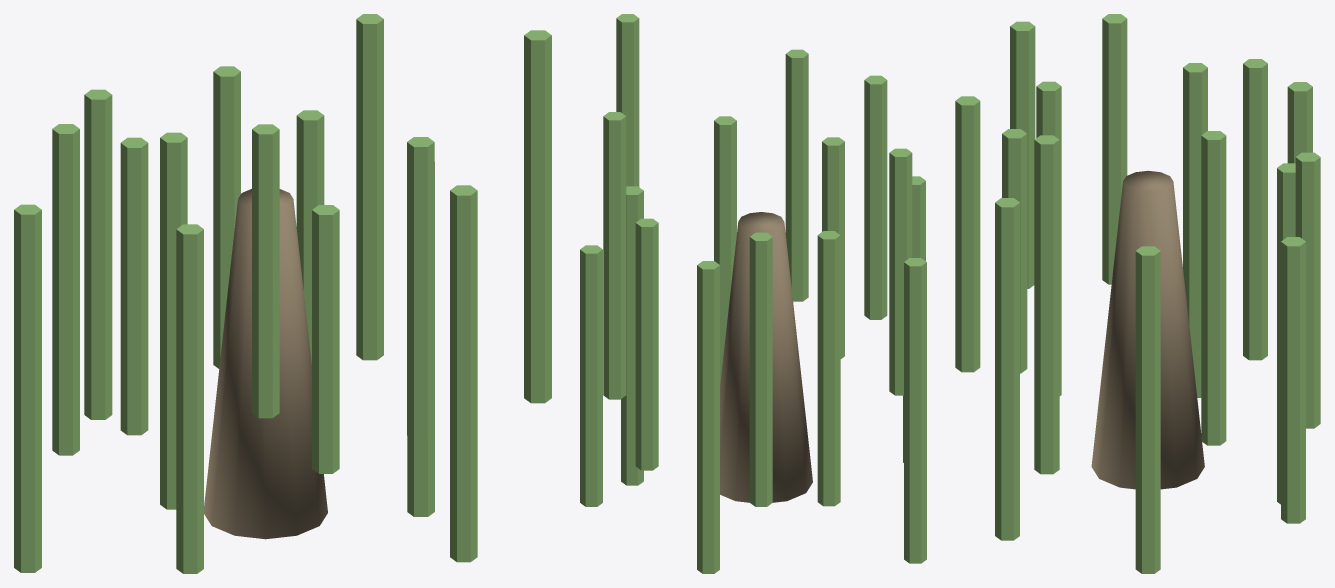
The model's file is willow.glb.
3 views of the same model, side by side, from view 1: azimuth 30°, elevation 25°; view 2: azimuth 150°, elevation 25°; view 3: azimuth 270°, elevation 25° (orthographic). The views are drawn at different scales.
Visible parts, largest first — view 1: Trunk, Curtain_13, Curtain_14, Curtain_7, Curtain_9, Curtain_1, Curtain_5, Curtain_6, Curtain_8, Curtain_12, Curtain_10, Curtain_11 (+4 smaller); view 2: Trunk, Curtain_4, Curtain_7, Curtain_1, Curtain_6, Curtain_5, Curtain_3, Curtain_2, Curtain_10, Curtain_12, Curtain_8, Curtain_13 (+4 smaller); view 3: Trunk, Curtain_14, Curtain_13, Curtain_0, Curtain_1, Curtain_6, Curtain_12, Curtain_2, Curtain_8, Curtain_7, Curtain_3, Curtain_10 (+4 smaller).
Boxes of the visible parts, x1,y1,x2,y2 form: Trunk: (204, 189, 327, 539); Curtain_13: (450, 185, 477, 562); Curtain_14: (524, 30, 551, 403); Curtain_7: (14, 204, 41, 572); Curtain_9: (176, 224, 203, 573); Curtain_1: (356, 14, 383, 360); Curtain_5: (84, 89, 112, 419); Curtain_6: (52, 124, 79, 455); Curtain_8: (120, 137, 148, 435); Curtain_12: (407, 137, 434, 440); Curtain_10: (252, 124, 279, 418); Curtain_11: (312, 205, 339, 473); Trunk: (720, 212, 812, 502); Curtain_4: (697, 261, 719, 573); Curtain_7: (904, 258, 926, 563); Curtain_1: (603, 112, 626, 399); Curtain_6: (817, 231, 840, 506); Curtain_5: (749, 232, 772, 506); Curtain_3: (635, 218, 658, 470); Curtain_2: (580, 245, 602, 506); Curtain_10: (864, 75, 887, 319); Curtain_12: (785, 49, 808, 301); Curtain_8: (889, 148, 912, 395); Curtain_13: (714, 116, 736, 385); Trunk: (1091, 170, 1204, 489); Curtain_14: (1034, 135, 1059, 474); Curtain_13: (995, 198, 1019, 540); Curtain_0: (1135, 246, 1160, 573); Curtain_1: (1201, 131, 1226, 445); Curtain_6: (1243, 59, 1267, 360); Curtain_12: (955, 96, 980, 372); Curtain_2: (1281, 237, 1305, 523); Curtain_8: (1102, 14, 1127, 284); Curtain_7: (1183, 63, 1207, 397); Curtain_3: (1295, 152, 1320, 428); Curtain_10: (1010, 21, 1035, 288).
Size of what is drawn, in the model's own units: 7.48 by 8.13 by 5.8.
